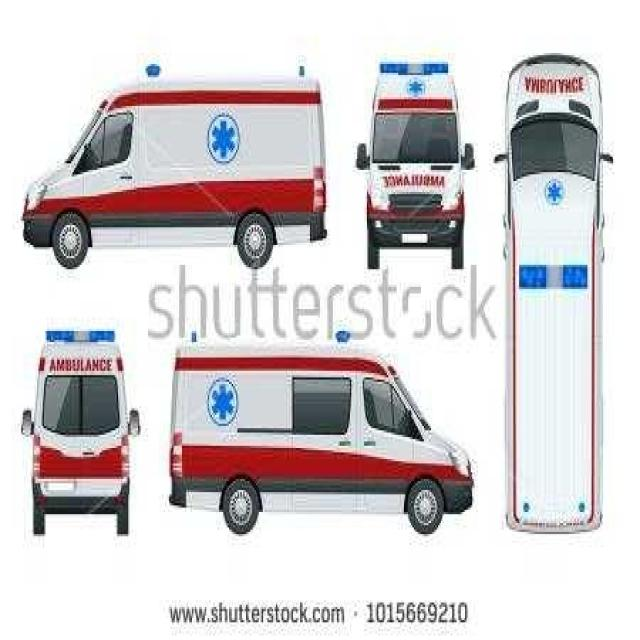ambulance: (19, 54, 329, 268), (160, 343, 487, 537), (501, 39, 607, 553), (15, 319, 146, 539), (355, 56, 480, 262)
